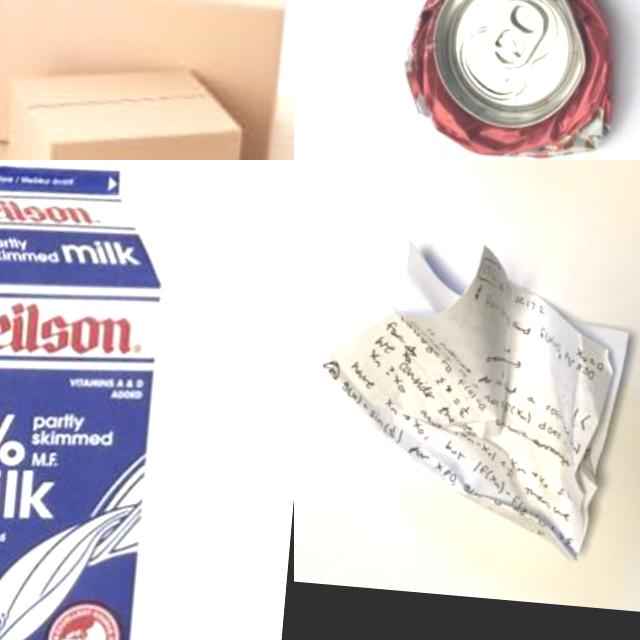aba de lata: (487, 0, 552, 77)
caixinha: (0, 160, 175, 640)
garrafa plástica: (0, 0, 294, 160)
lata: (396, 0, 630, 160)
papel: (304, 226, 638, 564)
